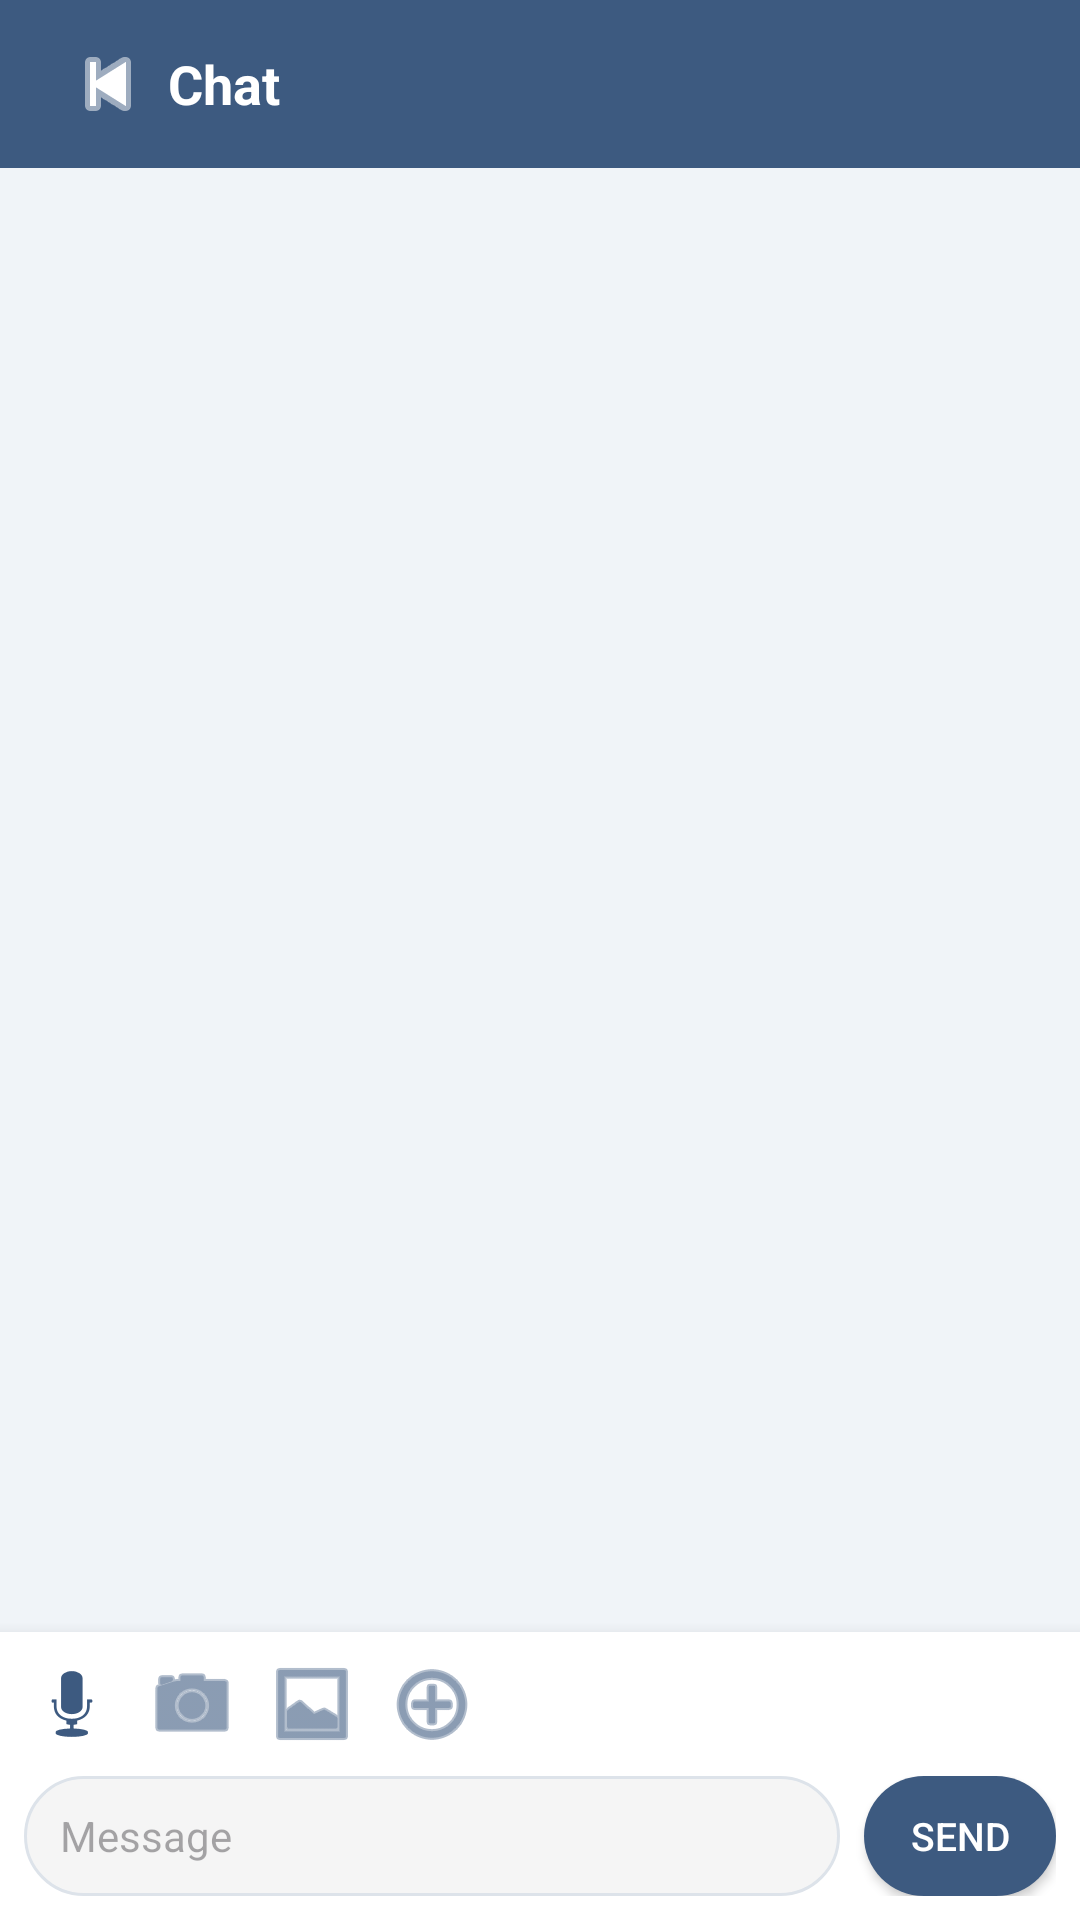

Icons on this 1080w x 1920h Android screen, each with its box as box=[x1, y1, x2, y2]:
Back: box=[85, 57, 131, 111]
More: box=[396, 1669, 468, 1740]
Send image: box=[276, 1668, 348, 1740]
Take photo: box=[155, 1673, 229, 1732]
Voice note: box=[51, 1671, 93, 1737]
